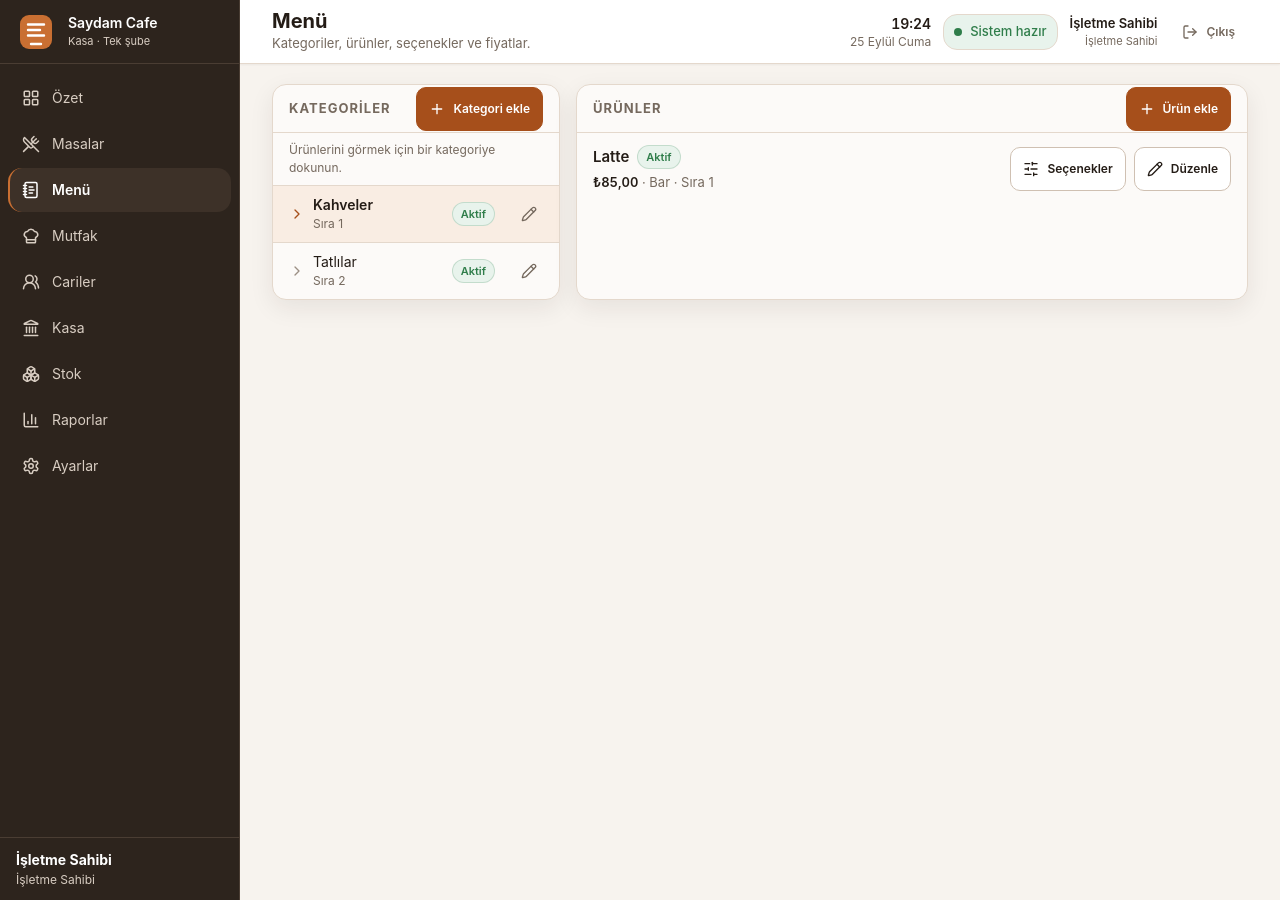
Menü ekranı › ürün seçildiğinde seçenek grupları ve fiyat farkları görünür
The width and height of the screenshot is (1280, 900).
Expected: the text "Latte" is shown, [593, 146, 629, 168]
What coordinates should you click on to do the following:
click the button "Seçenekler"
I would click on:
 (1068, 169)
Its box is [1010, 147, 1126, 191].
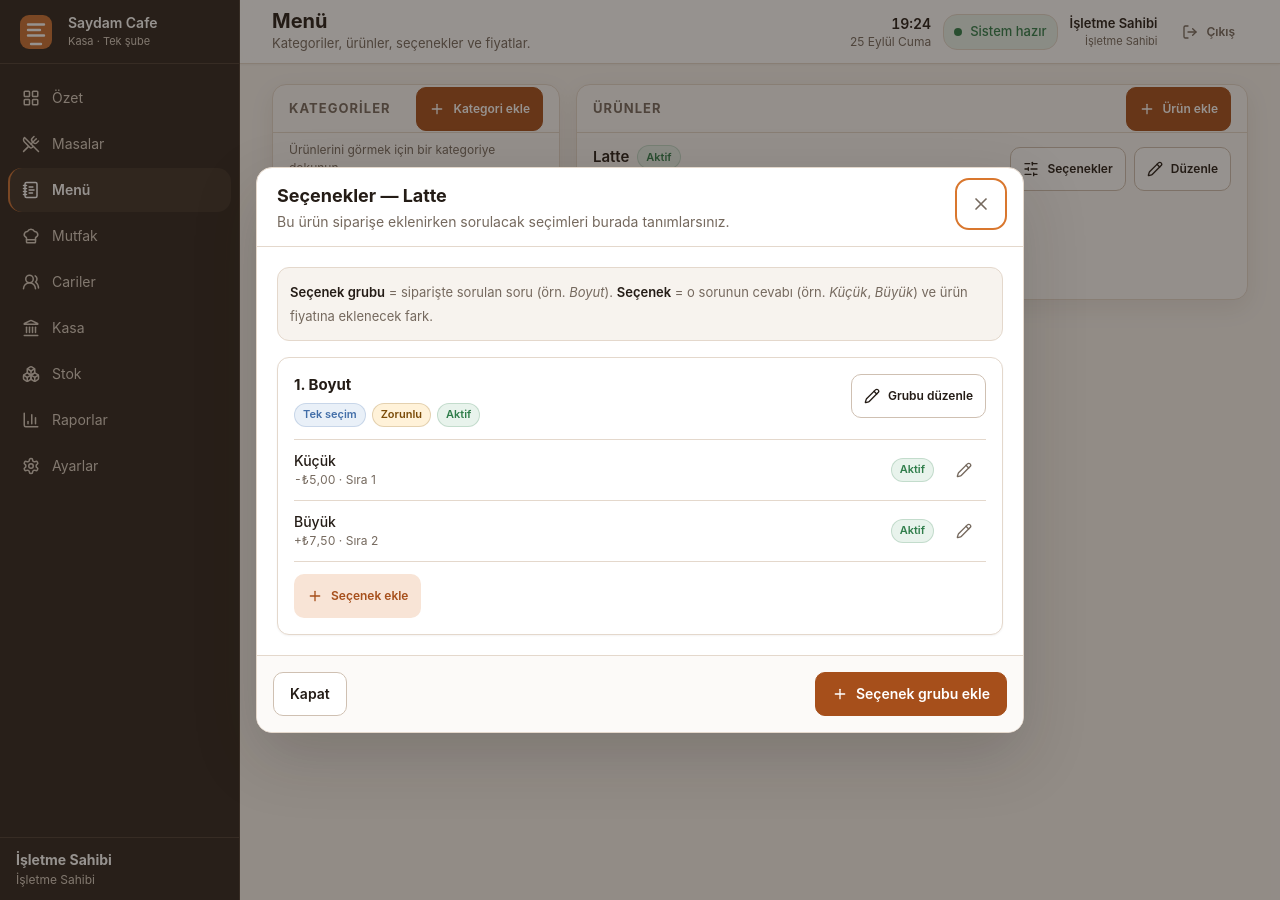
Expected: the text "siparişte sorulan soru" is shown, [385, 284, 569, 300]
Expected: the heading "1. Boyut" is shown, [294, 375, 351, 394]
Expected: the text "Tek seçim" is shown, [294, 403, 366, 427]
